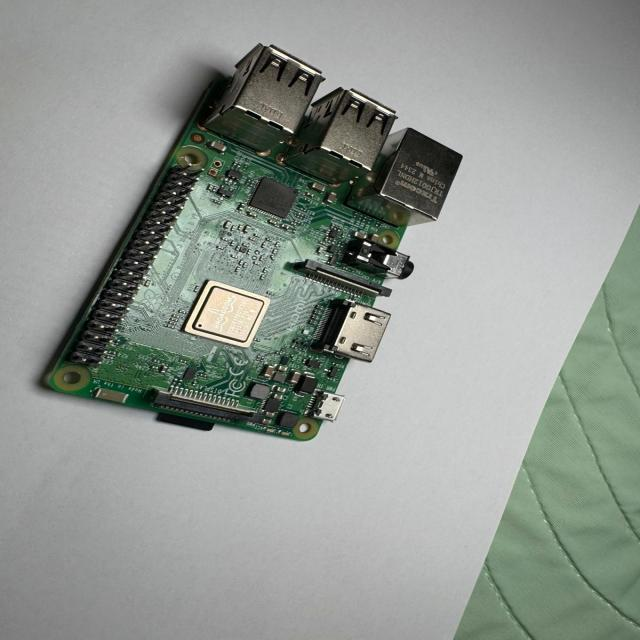CPU: (181, 280, 270, 352)
Ethernet: (353, 128, 465, 229)
GPIO: (56, 164, 197, 364)
HDMI: (315, 301, 392, 366)
RAM-3: (246, 177, 300, 224)
Raspberry: (39, 45, 462, 444)
